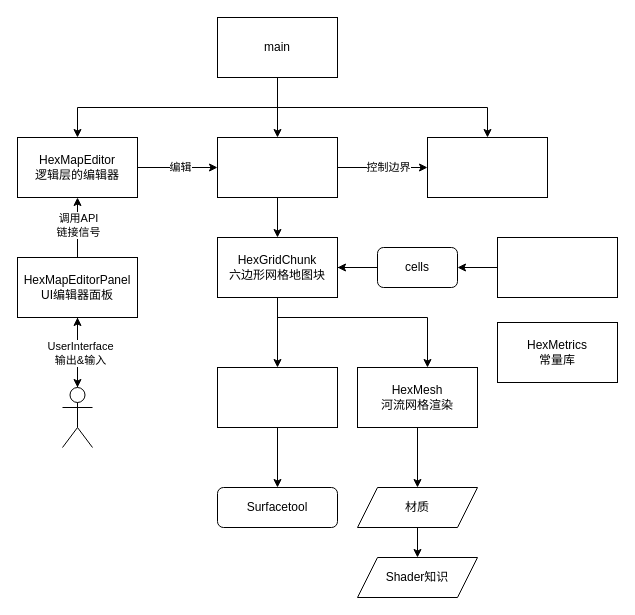
The diagram is 635 pixels wide and 615 high, and some of its shapes have lost their labels. Each missing label, with the centre of its shape:
"Actor" belongs at [77,417].
"HexCell 逻辑格子 颜色、海拔、是否有河流" belongs at [557,267].
"HexGrid 六边形网格地图" belongs at [277,167].
"HexMapCamera" belongs at [487,167].
"HexMesh 地形网格渲染" belongs at [277,397].
